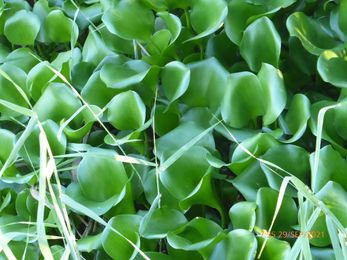water_hyacinth: (1, 1, 345, 258)
